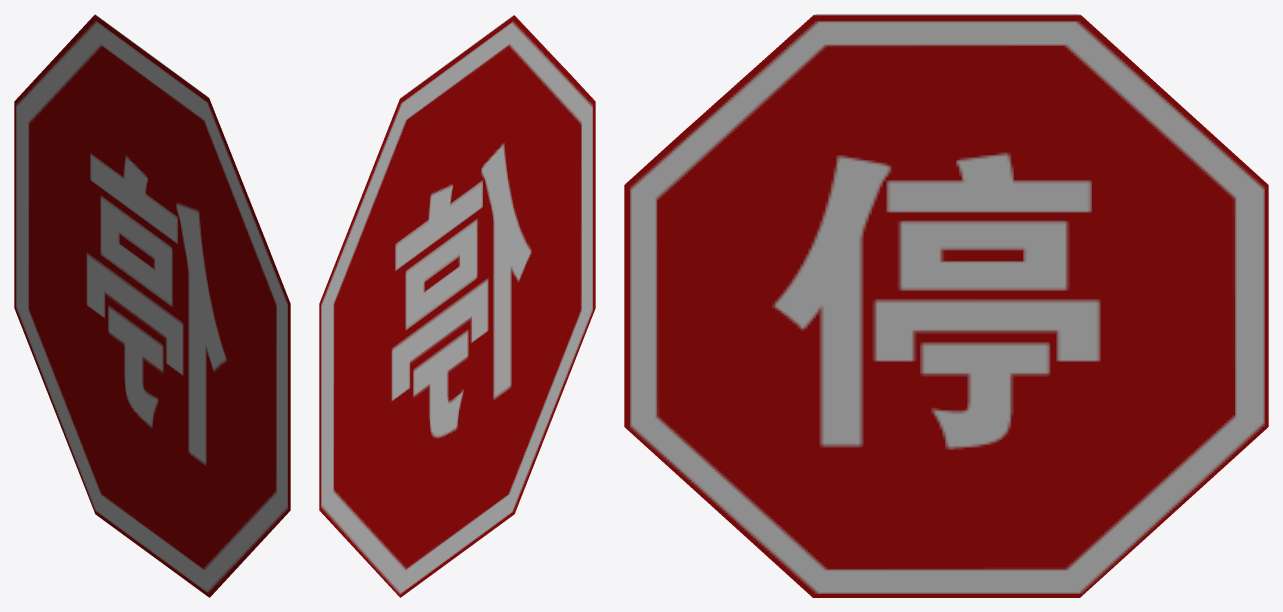
Rendered from SM_TPP_D.fbx.
The picture shows the model from 3 angles, left to right: view 1: azimuth 30°, elevation 25°; view 2: azimuth 150°, elevation 25°; view 3: azimuth 270°, elevation 25°; orthographic projection. The views are drawn at different scales.
Visible parts, largest first — view 1: SM_TPP_D; view 2: SM_TPP_D; view 3: SM_TPP_D.
Boxes of the visible parts, left/top/right/bottom form: SM_TPP_D: left=14, top=14, right=290, bottom=597; SM_TPP_D: left=319, top=15, right=595, bottom=597; SM_TPP_D: left=624, top=14, right=1268, bottom=597.
Bounding box in the file's own units: 1.98e-06 × 1 × 1.
